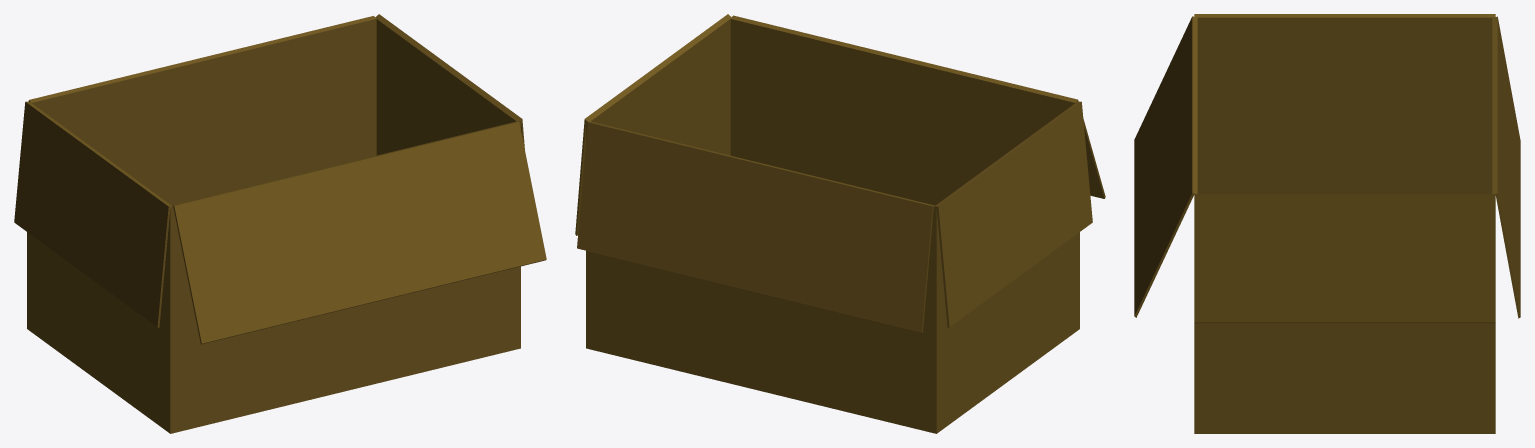
File: container.dae
3 views of the same model, side by side, from view 1: azimuth 30°, elevation 25°; view 2: azimuth 150°, elevation 25°; view 3: azimuth 270°, elevation 25° (orthographic). The views are drawn at different scales.
Visible parts, largest first — view 1: Cube; view 2: Cube; view 3: Cube.
Part boxes in pixels (x1=…): Cube: x1=14, y1=14, x2=546, y2=433; Cube: x1=575, y1=14, x2=1105, y2=433; Cube: x1=1134, y1=14, x2=1520, y2=433.
Bounding box in the file's own units: 0.8647 × 0.7356 × 0.5059.
